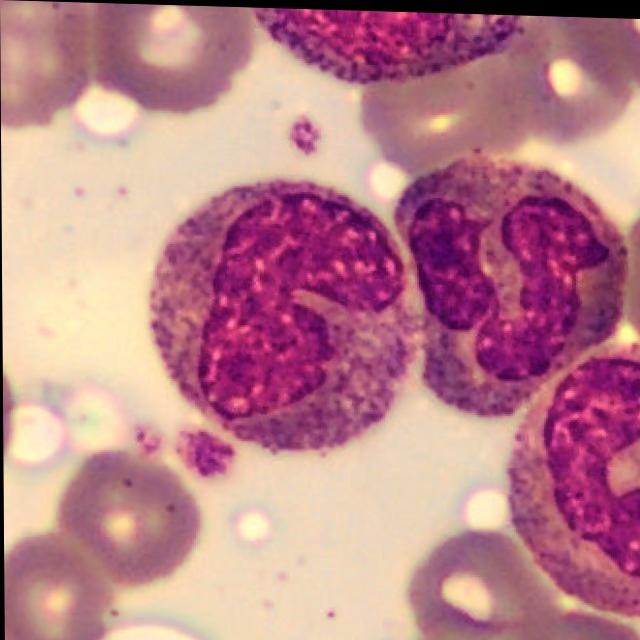Bastonete: (143, 176, 412, 455)
